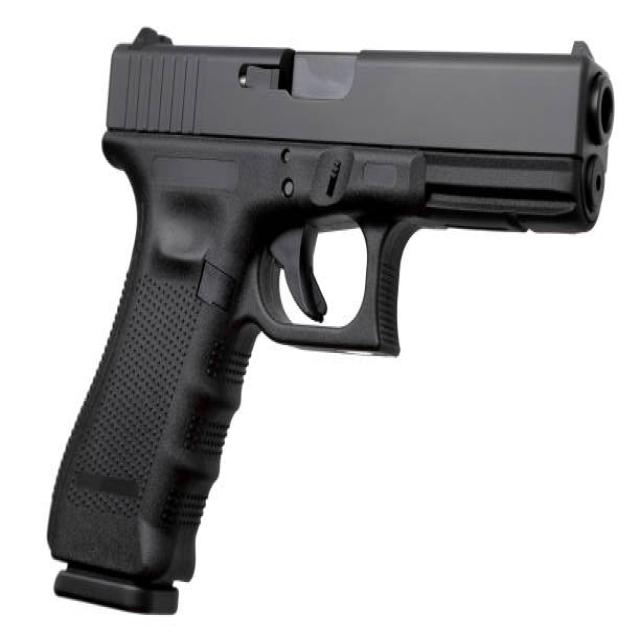pistol: (34, 21, 628, 627)
